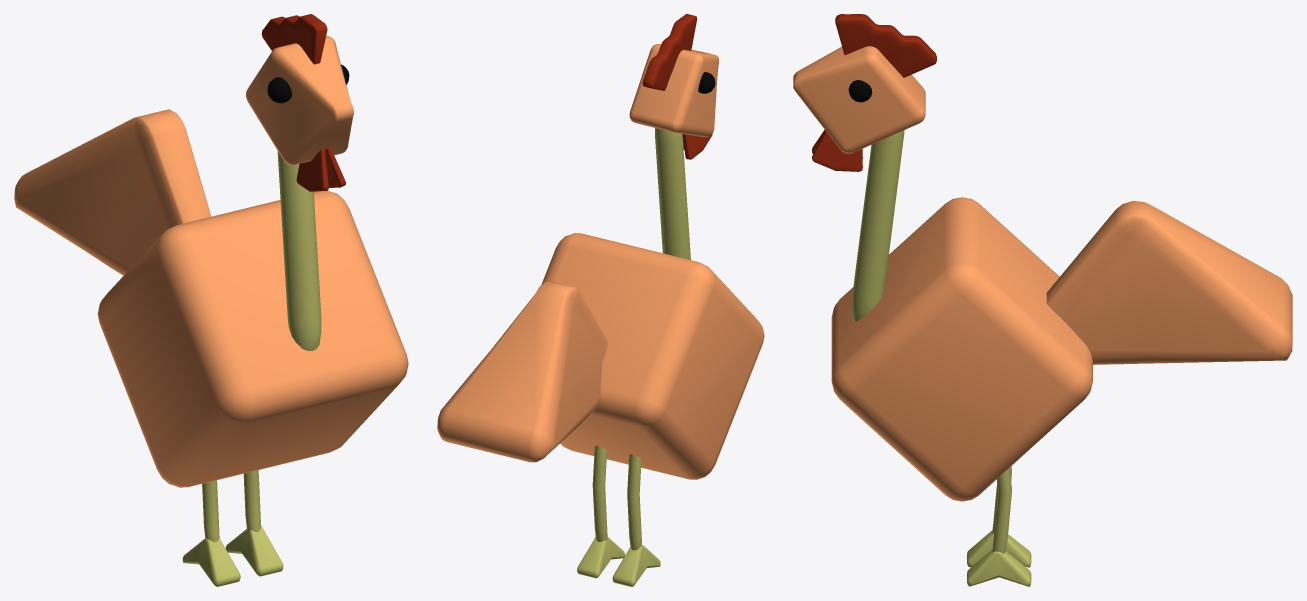
The model's file is _hicken_2.fbx.
3 renders of one model, left to right at view 1: azimuth 30°, elevation 25°; view 2: azimuth 150°, elevation 25°; view 3: azimuth 270°, elevation 25°, orthographic. The views are drawn at different scales.
Visible parts, largest first — view 1: body, tail.001, face, neck, feet, crown, legs, body.007, eyes; view 2: body, tail.001, face, neck, legs, feet, crown, body.007; view 3: body, tail.001, face, neck, crown, feet, legs, body.007.
Boxes of the visible parts, box(x1,y1,x2,y2) form: body: box(97, 190, 408, 487); tail.001: box(14, 109, 211, 275); face: box(246, 36, 353, 165); neck: box(277, 151, 321, 350); feet: box(182, 526, 283, 586); crown: box(261, 14, 327, 64); legs: box(202, 470, 260, 542); body.007: box(296, 147, 345, 191); eyes: box(267, 64, 349, 103); body: box(541, 233, 764, 479); tail.001: box(437, 281, 607, 462); face: box(629, 44, 718, 137); neck: box(655, 128, 690, 259); legs: box(592, 445, 641, 550); feet: box(577, 537, 660, 586); crown: box(642, 14, 697, 90); body.007: box(682, 134, 712, 159); body: box(831, 197, 1092, 501); tail.001: box(1046, 201, 1292, 364); face: box(793, 46, 925, 153); neck: box(851, 130, 904, 321); crown: box(835, 14, 936, 77); feet: box(967, 530, 1031, 586); legs: box(992, 466, 1011, 553); body.007: box(812, 129, 862, 171).
Size of the model in its own units: 33.44 by 103 by 83.73.
